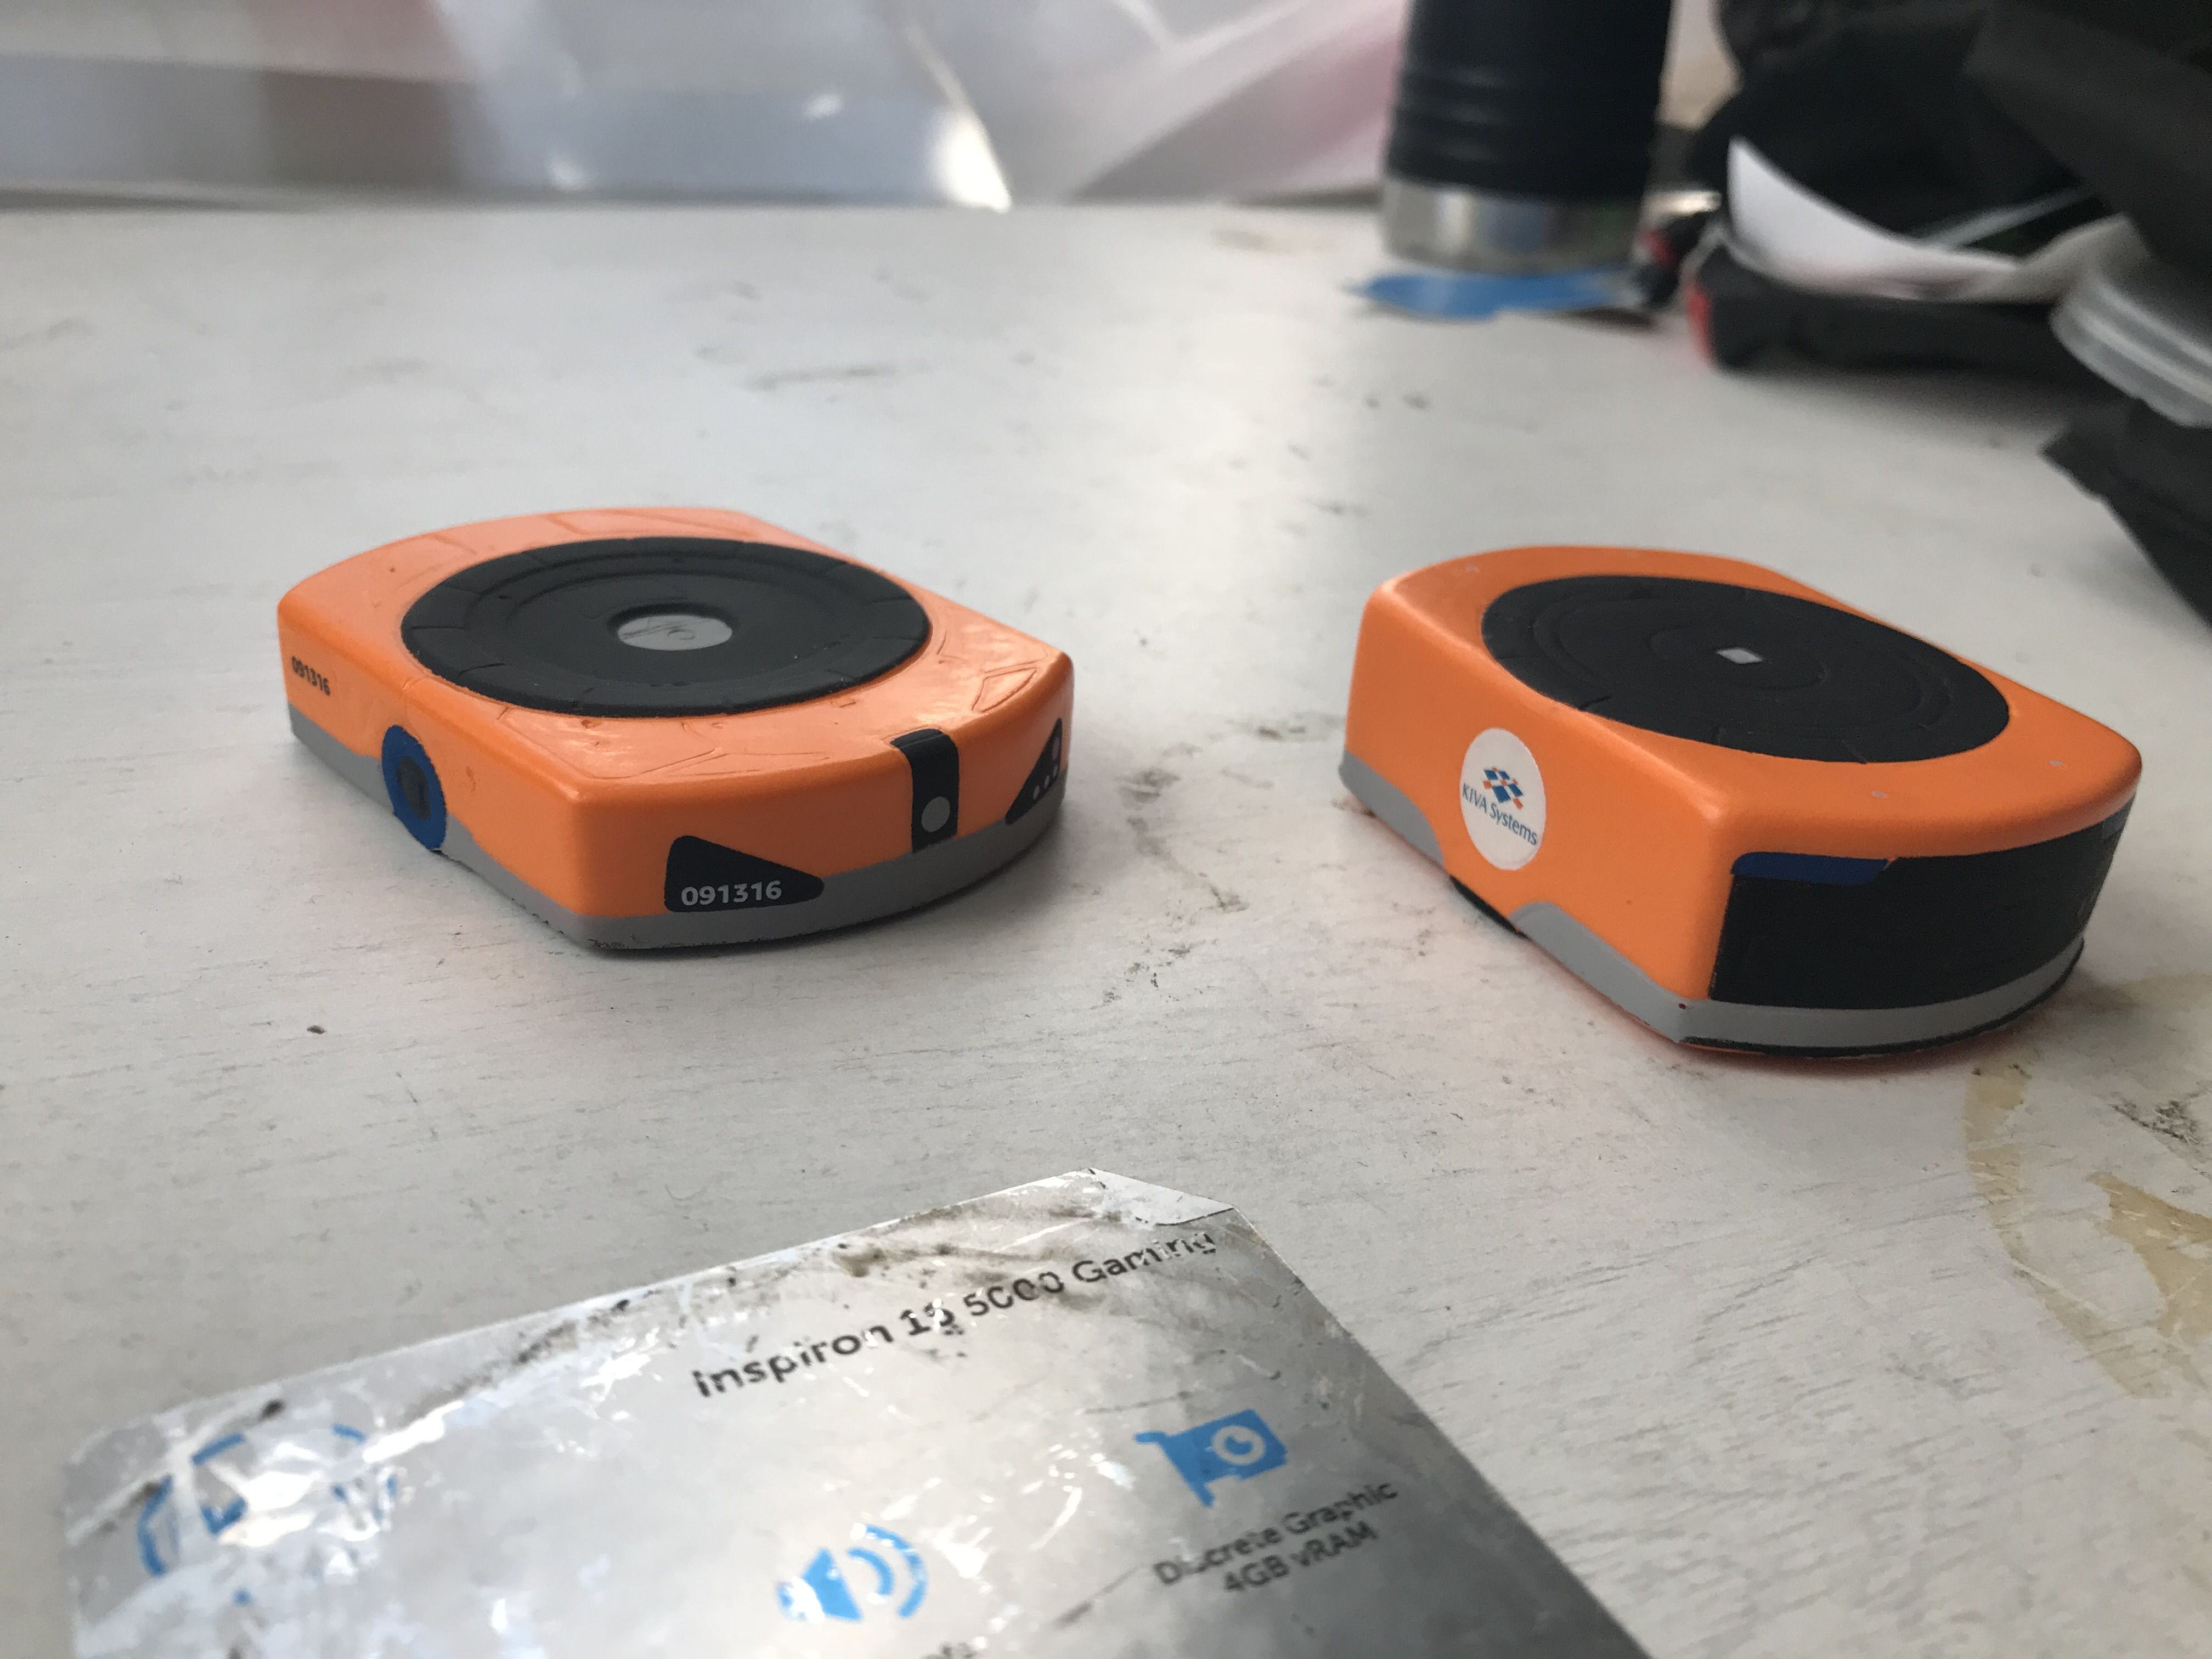amazon_bot: (1324, 516, 2160, 1084), (268, 486, 1111, 979)
